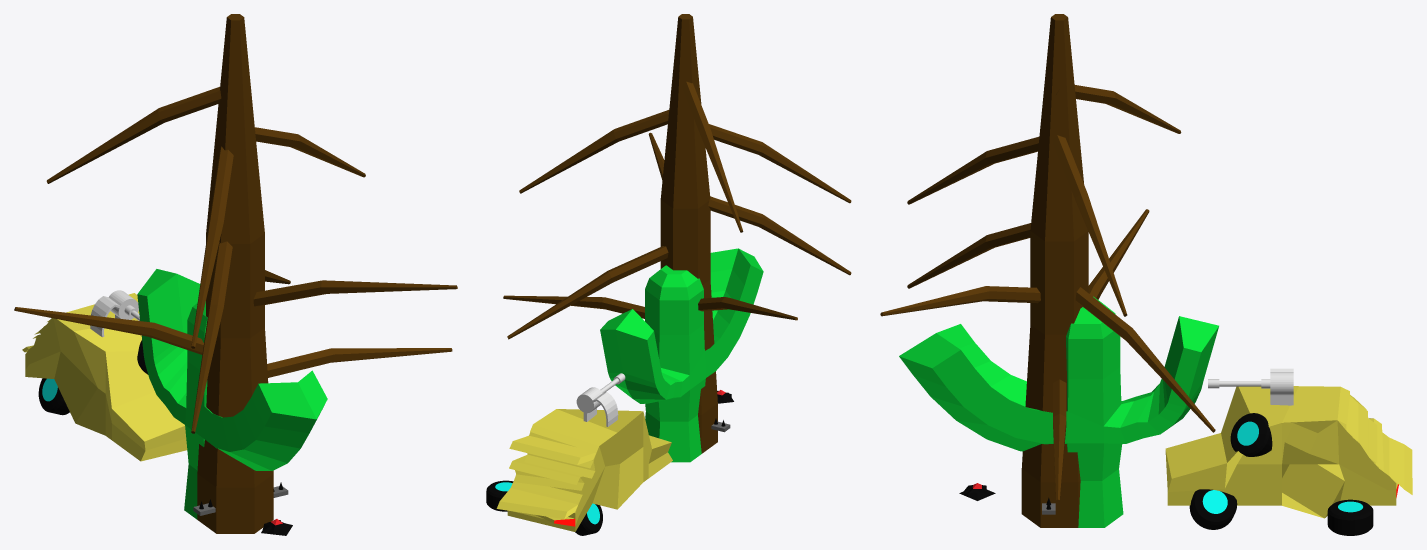
Rendered from brokencarV1.fbx.
The picture shows the model from 3 angles, left to right: view 1: azimuth 30°, elevation 25°; view 2: azimuth 150°, elevation 25°; view 3: azimuth 270°, elevation 25°; orthographic projection. The views are drawn at different scales.
Parts seen in each view (by area): view 1: TreeMain, Cactus, Car, Turret; view 2: TreeMain, Cactus, Car, Turret; view 3: TreeMain, Cactus, Car, Turret.
Part boxes in pixels (box(x1,y1,x2,y2)): TreeMain: box(14, 14, 457, 533); Cactus: box(137, 269, 327, 519); Car: box(22, 293, 187, 461); Turret: box(90, 290, 139, 337); TreeMain: box(503, 14, 851, 453); Cactus: box(600, 248, 763, 462); Car: box(486, 409, 672, 535); Turret: box(576, 373, 625, 426); TreeMain: box(880, 14, 1215, 527); Cactus: box(899, 296, 1218, 527); Car: box(1165, 386, 1412, 535); Turret: box(1208, 368, 1293, 405).
Bounding box in the file's own units: 890 × 1090 × 1058.
